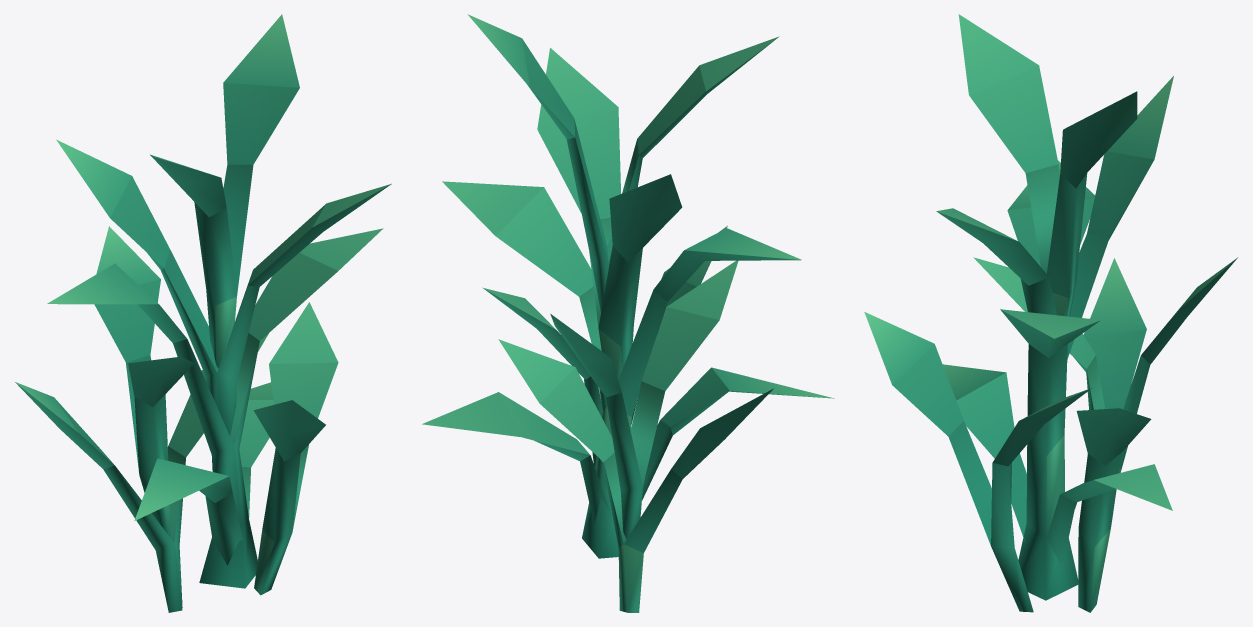
File: LavenderSprout01.glb
3 views of the same model, side by side, from view 1: azimuth 30°, elevation 25°; view 2: azimuth 150°, elevation 25°; view 3: azimuth 270°, elevation 25° (orthographic). The views are drawn at different scales.
Parts seen in each view (by area): view 1: LavenderSprout01; view 2: LavenderSprout01; view 3: LavenderSprout01.
Boxes of the visible parts, x1,y1,x2,y2 form: LavenderSprout01: (15,14,391,612); LavenderSprout01: (422,14,834,612); LavenderSprout01: (864,14,1237,612).
Bounding box in the file's own units: 0.4635 × 0.7111 × 0.4127.
Materials: 1 (1 with a texture image).
